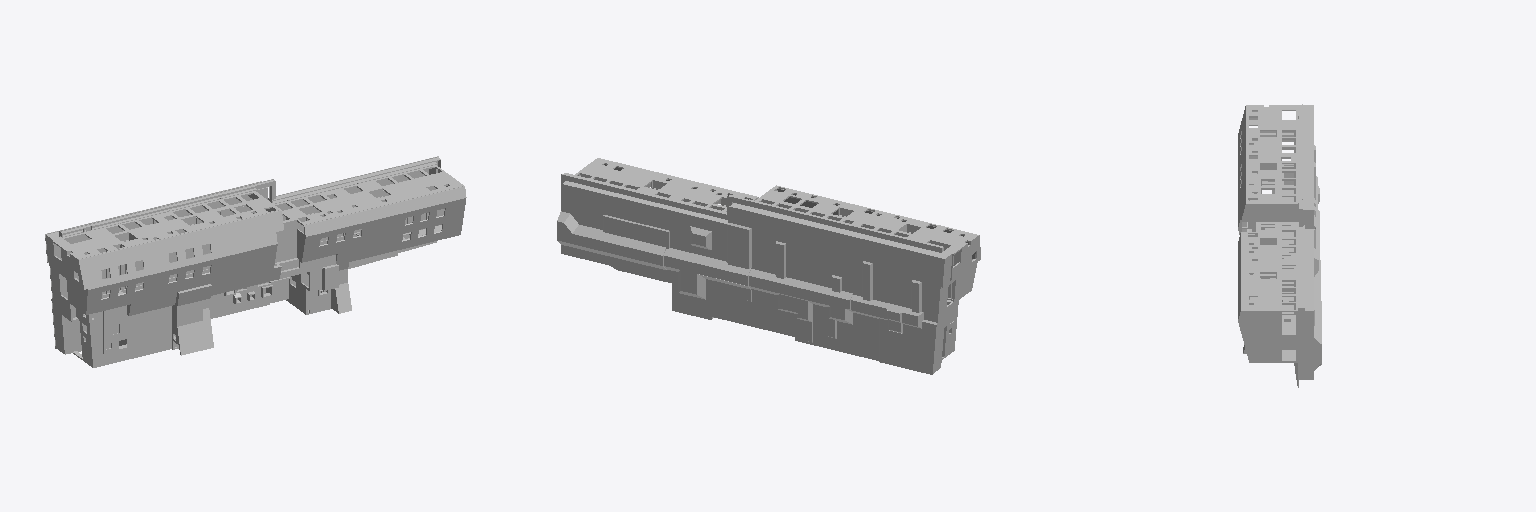
Rendered from konstrukcja-zmiany.obj.
3 views of the same model, side by side, from view 1: azimuth 30°, elevation 25°; view 2: azimuth 150°, elevation 25°; view 3: azimuth 270°, elevation 25° (orthographic).
Visible parts, largest first — view 1: plyta_stropowa, sciana_betonowa, belka, plyta_fundament, chudy_beton; view 2: chudy_beton, sciana_betonowa, plyta_stropowa; view 3: sciana_betonowa, plyta_stropowa, chudy_beton, plyta_fundament.
Boxes of the visible parts, <box> form: plyta_stropowa: <box>68,181,466,367</box>; sciana_betonowa: <box>47,157,463,366</box>; belka: <box>75,187,444,355</box>; plyta_fundament: <box>46,169,428,348</box>; chudy_beton: <box>45,156,438,348</box>; chudy_beton: <box>557,174,944,374</box>; sciana_betonowa: <box>563,158,979,372</box>; plyta_stropowa: <box>600,158,980,357</box>; sciana_betonowa: <box>1240,105,1318,379</box>; plyta_stropowa: <box>1238,105,1299,387</box>; chudy_beton: <box>1302,104,1321,370</box>; plyta_fundament: <box>1311,105,1320,379</box>.
Size of the model in its own units: 74.22 by 22.41 by 13.89.